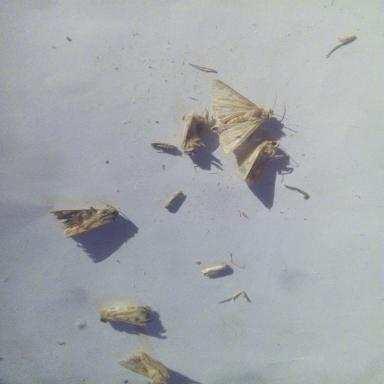abw: (208, 75, 290, 155), (45, 194, 133, 240), (234, 137, 286, 188), (112, 351, 173, 383), (177, 105, 213, 158), (97, 301, 154, 331)
